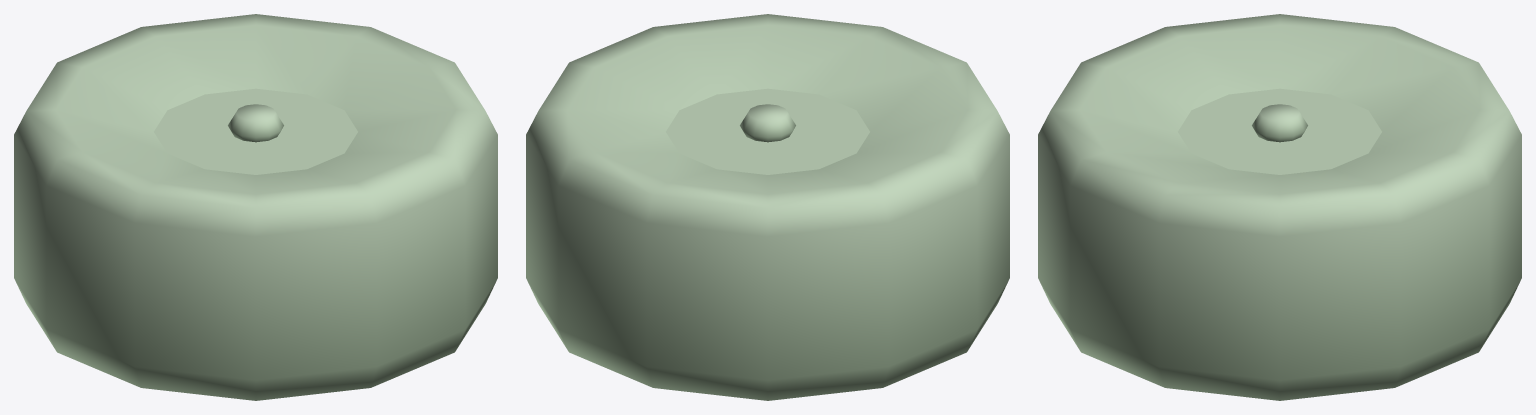
The model's file is poof-round (%secret).glb.
3 renders of one model, left to right at view 1: azimuth 30°, elevation 25°; view 2: azimuth 150°, elevation 25°; view 3: azimuth 270°, elevation 25°, orthographic.
Parts seen in each view (by area): view 1: poof-round (%secret); view 2: poof-round (%secret); view 3: poof-round (%secret).
Boxes of the visible parts, left/top/right/bottom form: poof-round (%secret): left=14, top=14, right=497, bottom=400; poof-round (%secret): left=526, top=14, right=1009, bottom=400; poof-round (%secret): left=1038, top=14, right=1521, bottom=400.
Bounding box in the file's own units: 0.6 × 0.2802 × 0.6.
